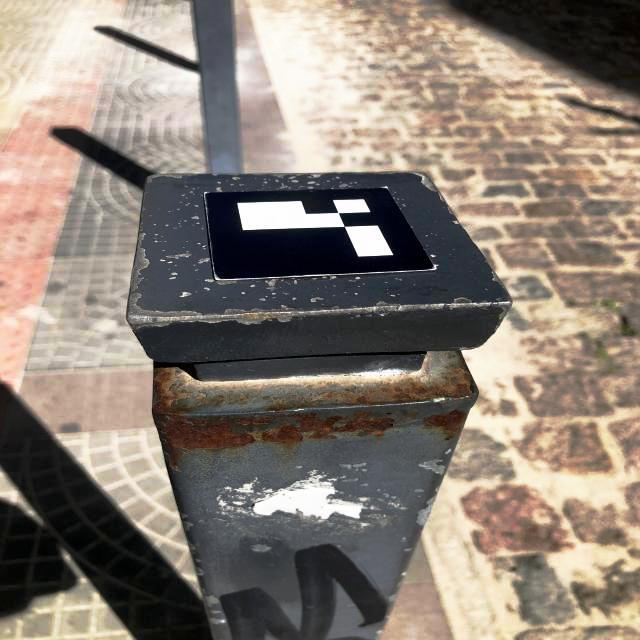Corrosion: (265, 354, 477, 412), (152, 368, 254, 471), (261, 411, 394, 444), (425, 410, 467, 439), (196, 393, 207, 400), (216, 394, 227, 400), (238, 396, 245, 400)
